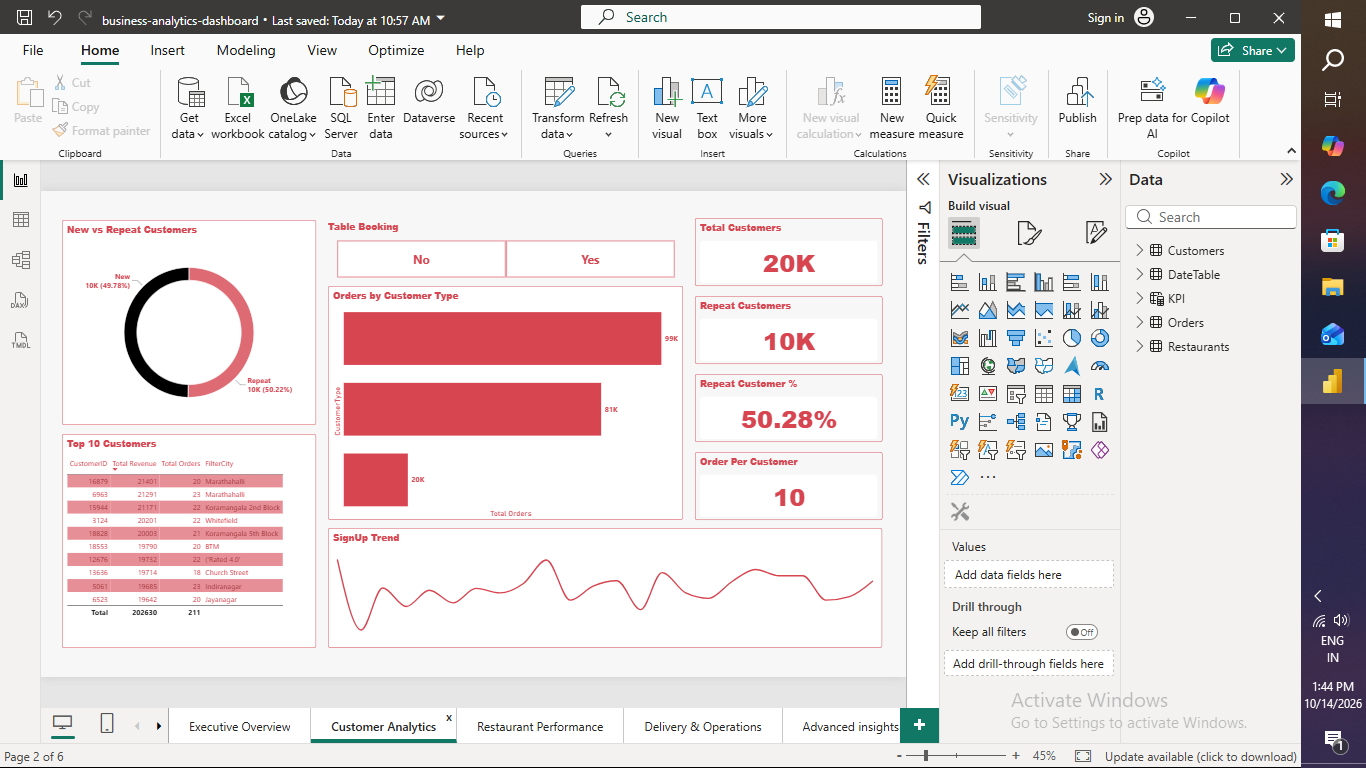

The page's visual inventory and layout, read from the dashboard file:
{"tool":"powerbi","page":{"name":"Customer Analytics","canvas":[1920,1080],"ordinal":1},"visuals":[{"type":"cardVisual","title":"Total Customers","fields":{"Data":["Orders.Total Customers"]},"box":[1451.2,60.5,416.3,151.2],"z":0},{"type":"cardVisual","title":"Repeat Customers","fields":{"Data":["Orders.Repeat Customers"]},"box":[1451.2,233.3,416.3,151.2],"z":1000},{"type":"cardVisual","title":"Repeat Customer %","fields":{"Data":["Orders.Repeat Customer %"]},"box":[1451.2,406.2,416.3,151.2],"z":2000},{"type":"cardVisual","title":"Order Per Customer","fields":{"Data":["Orders.Orders Per Customer"]},"box":[1451.2,579.1,416.3,151.2],"z":3000},{"type":"lineChart","title":"SignUp Trend","fields":{"Category":["Customers.SignupDate.Variation.Date Hierarchy.Year","Customers.SignupDate.Variation.Date Hierarchy.Month"],"Y":["Orders.Total Customers"]},"box":[637,748,1229.7,266.4],"z":4000},{"type":"barChart","title":"Orders by Customer Type","fields":{"Category":["Customers.CustomerType"],"Y":["Orders.Total Orders"]},"box":[637,210.9,788,519.4],"z":5000},{"type":"donutChart","title":"New vs Repeat Customers","fields":{"Category":["Customers.RepeatedvsNew"],"Y":["Orders.Total Customers"]},"box":[46.6,64.4,563.8,455],"z":6000},{"type":"tableEx","title":"Top 10 Customers","fields":{"Values":["Orders.CustomerID","Orders.Total Revenue","Orders.Total Orders","Customers.FilterCity"]},"box":[46.6,539.4,563.8,475],"z":7000},{"type":"slicer","title":"Table Booking","fields":{"Values":["Restaurants.Book_Table 2"]},"box":[637,64.4,788,128.7],"z":8000}]}

Visuals, with their boxes on the page's 1920x1080 design canvas (x1, y1, x2, y2). These are canvas units, not pixel positions in the 1366x768 screenshot, which may show the page scaled, cropped or inside an application window:
"Total Customers" cardVisual: box=[1451, 60, 1868, 212]
"Repeat Customers" cardVisual: box=[1451, 233, 1868, 384]
"Repeat Customer %" cardVisual: box=[1451, 406, 1868, 557]
"Order Per Customer" cardVisual: box=[1451, 579, 1868, 730]
"SignUp Trend" lineChart: box=[637, 748, 1867, 1014]
"Orders by Customer Type" barChart: box=[637, 211, 1425, 730]
"New vs Repeat Customers" donutChart: box=[47, 64, 610, 519]
"Top 10 Customers" tableEx: box=[47, 539, 610, 1014]
"Table Booking" slicer: box=[637, 64, 1425, 193]
